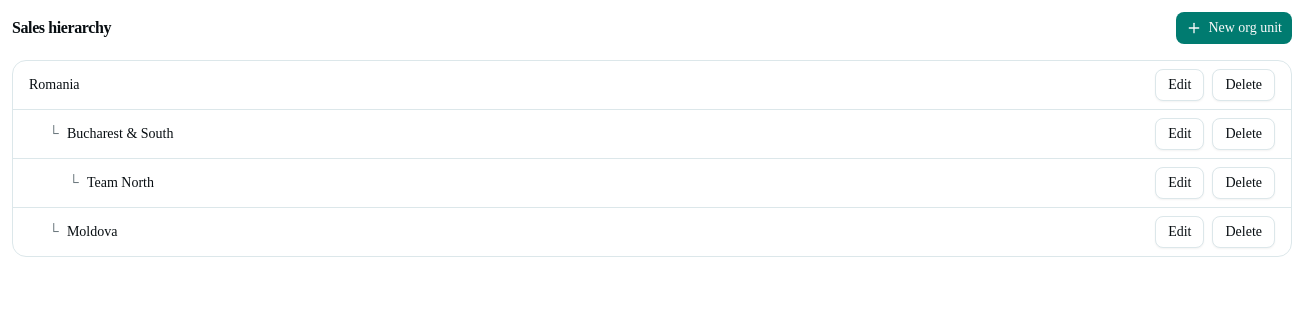
it: <OrgUnitBrowser> › shows what is in the way when a unit cannot be deleted
Click the button with aria-label "Delete Romania" at (1244, 85), box [1212, 69, 1275, 101]
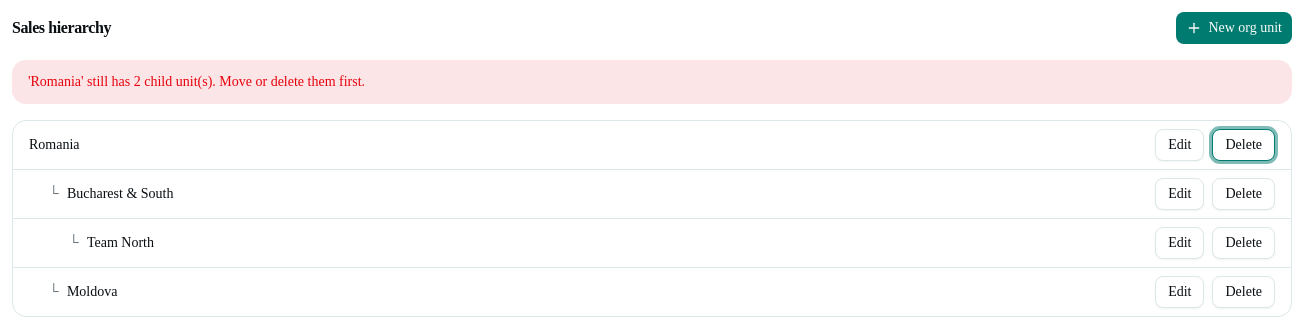
Expected: the message shows "still has 2 child unit(s)", [28, 74, 365, 89]
